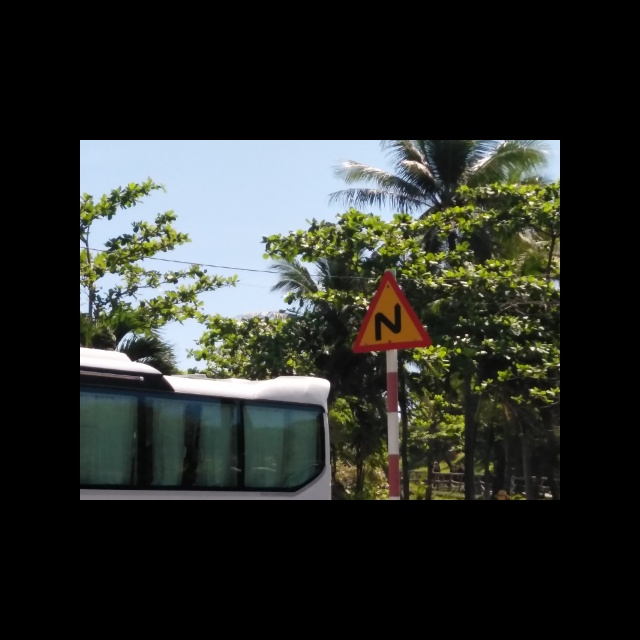Ngoặt nguy hiểm liên tiếp bên phải: (353, 268, 431, 354)
